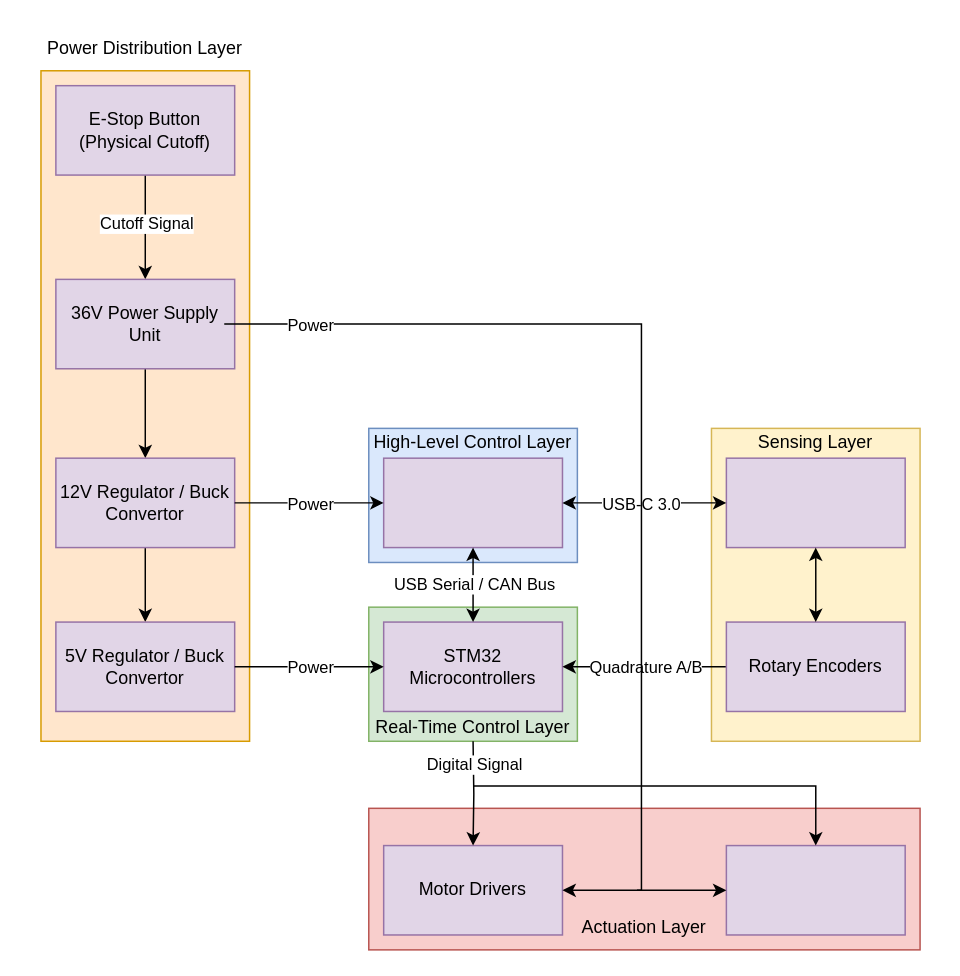
Image size: 960x976. Some labels were removed from this diagram. Here are the shapes that lost their labels. From the top down, the box of each, then its label:
(382, 457, 562, 548): NVIDIA Jetson Orin
(725, 457, 905, 548): Cameras
(725, 844, 905, 935): Gripper Actuator
